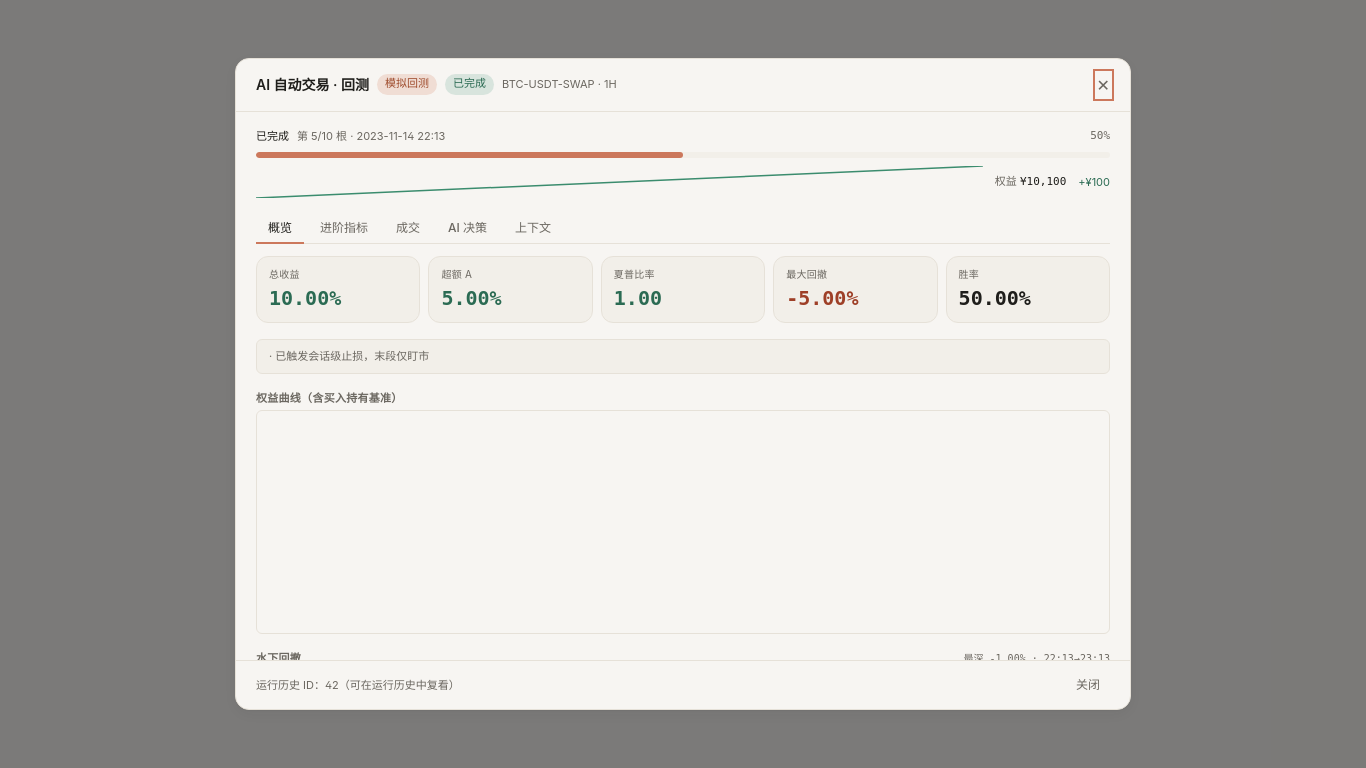
AiBacktestModal · complete dashboard › advanced tab shows extended metrics with a non-colliding payoff label
The image size is (1366, 768).
Click the tab "进阶指标" at point(344, 229), box [308,214,380,244]
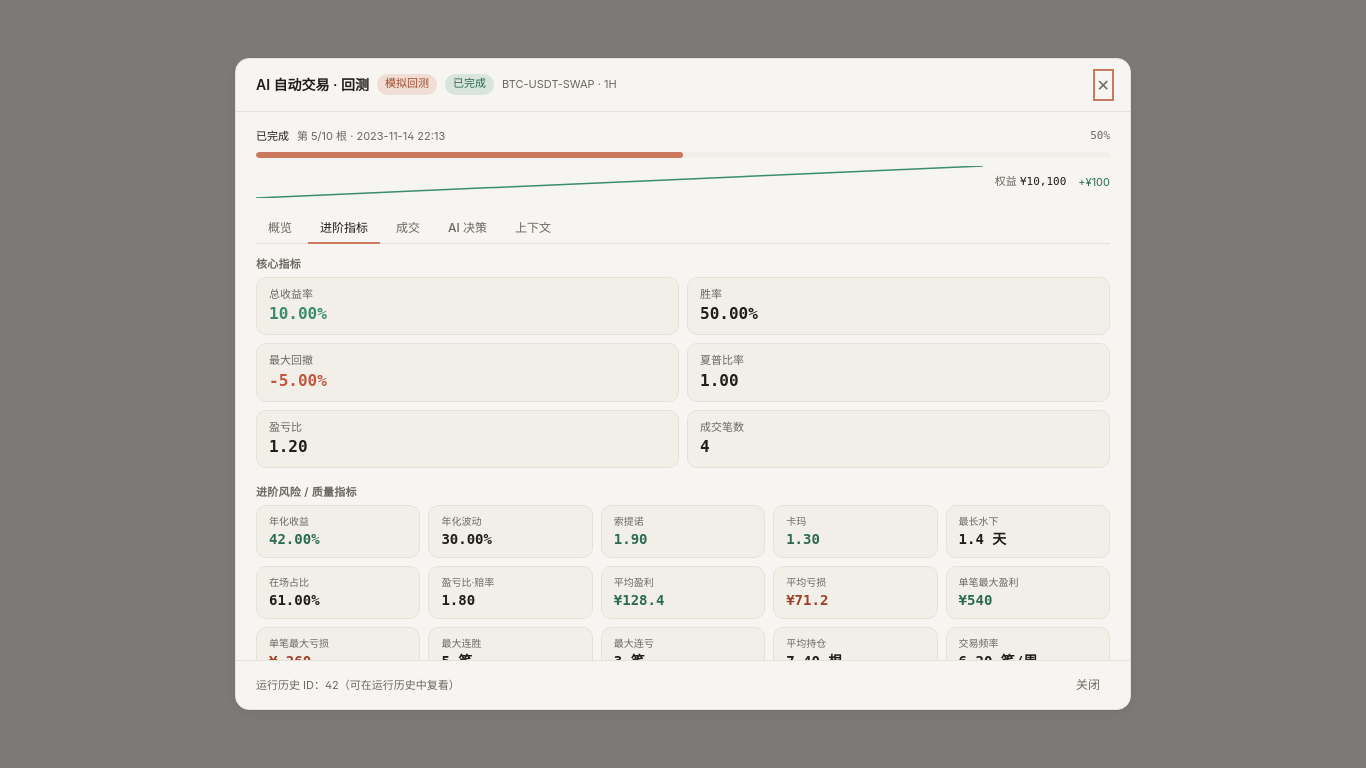
Expected: the text "索提诺" is shown, [614,515,644,527]
Expected: the text "盈亏比·赔率" is shown, [441,576,494,588]
